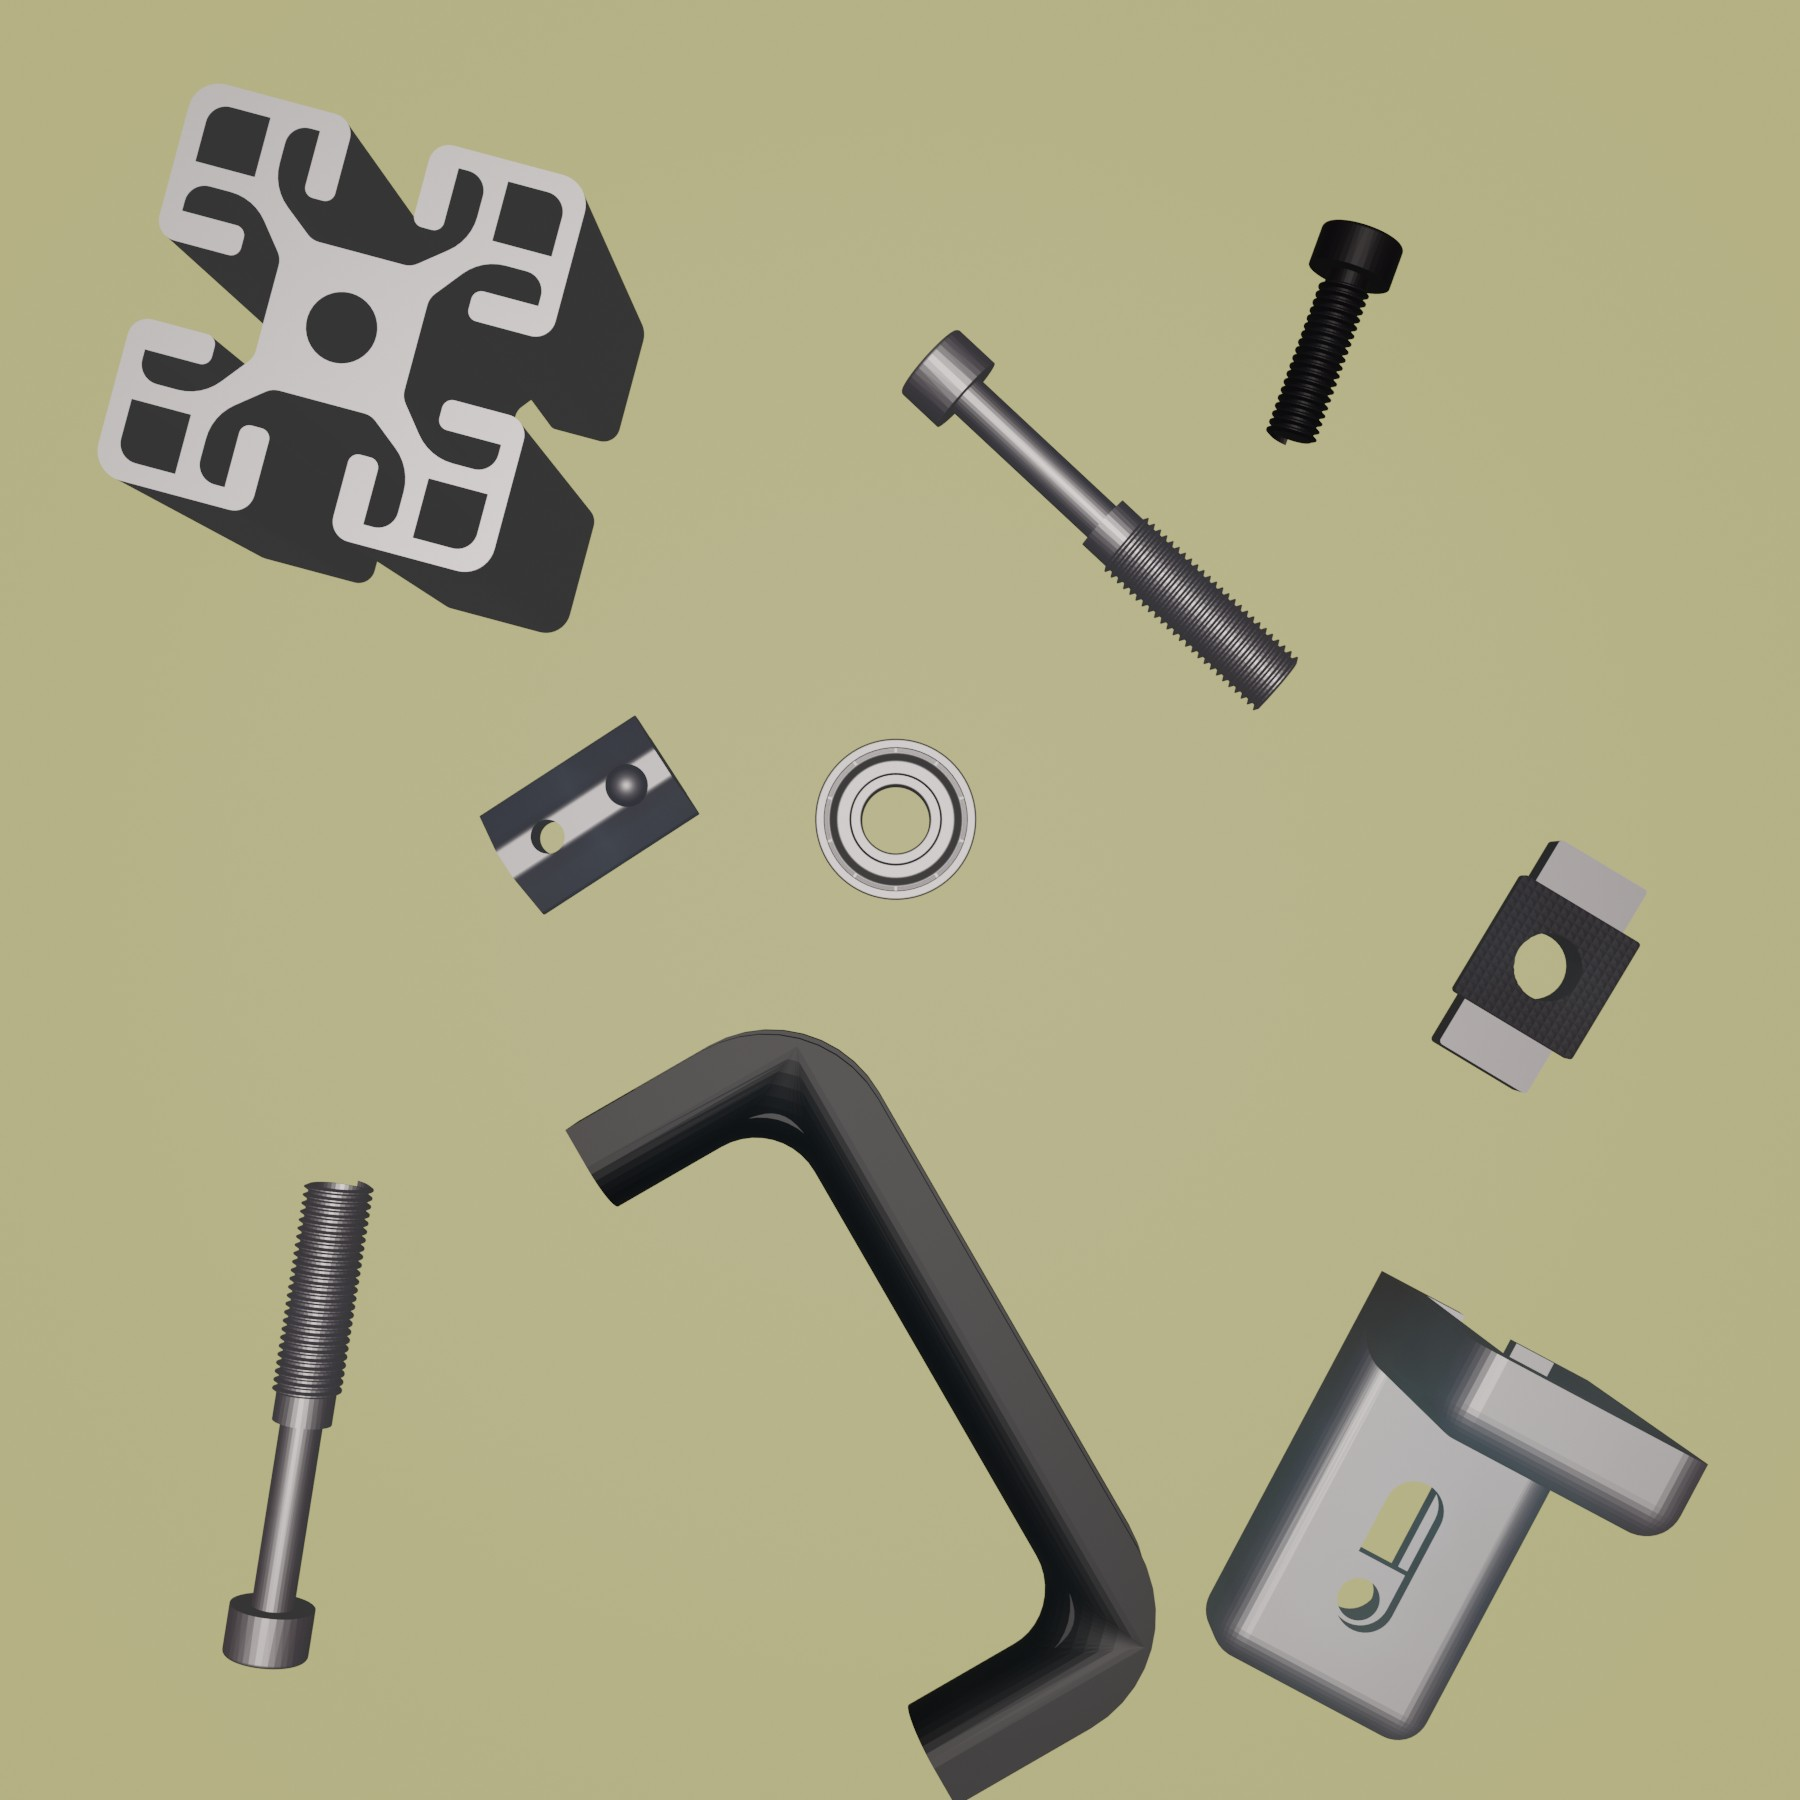Aluminium Extension: (94, 81, 646, 635)
Ball Bearing: (813, 737, 979, 903)
Multiwinkel: (1205, 1264, 1709, 1741)
Pull Handle: (565, 1029, 1159, 1800)
Shoulder Socket Head Cap Screw: (897, 328, 1301, 712), (219, 1175, 377, 1673)
Socket Head Cap Screw: (1263, 218, 1406, 448)
T Nut Square: (1429, 836, 1652, 1095)
T Spring Nut: (480, 710, 701, 915)
